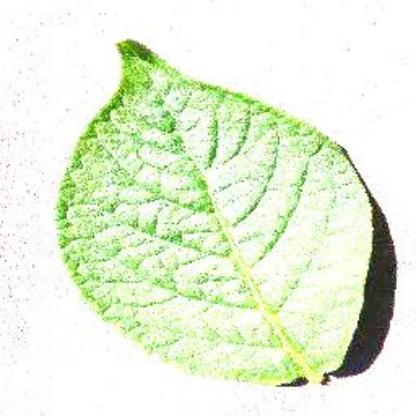Healthy-plant: (63, 35, 391, 395)
